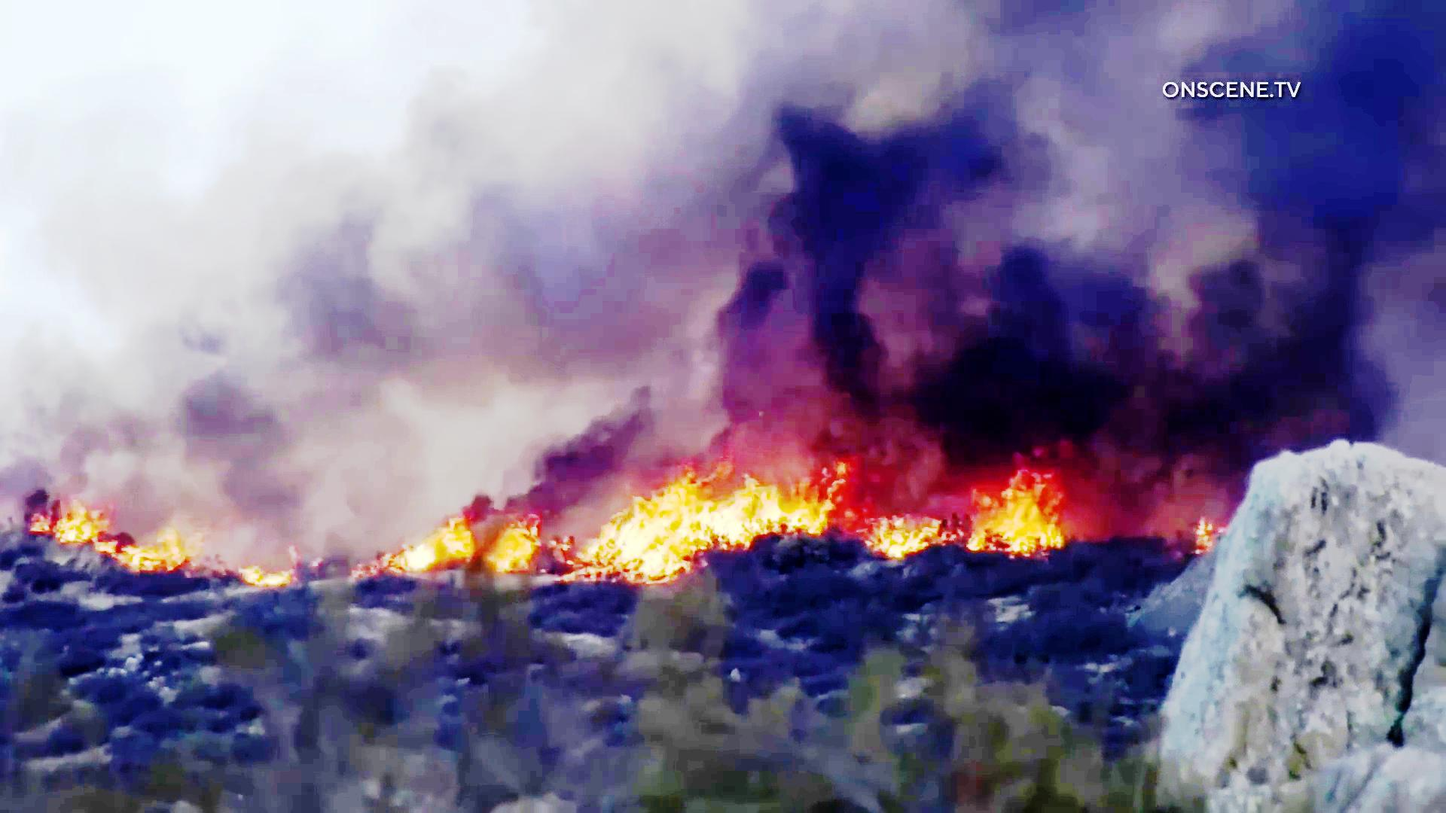fire: (599, 463, 844, 578), (27, 491, 211, 563), (371, 512, 549, 575), (976, 469, 1066, 565), (866, 492, 930, 562)
smoke: (140, 108, 1032, 417)
